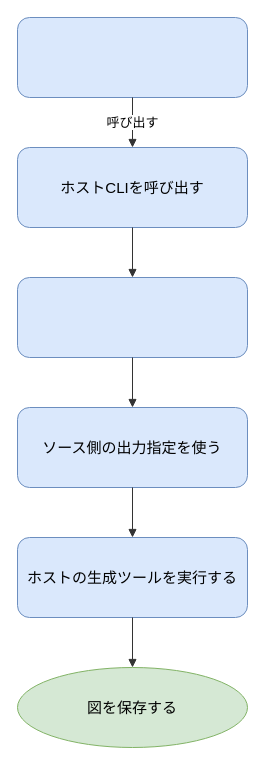
Some shapes in this 265 by 765 pixel diagram are drawn without their labels. Each missing label, with the centre of its shape:
"modeまたは拡張子を判別する" goes at (x=132, y=317).
"図生成タスクを実行する" goes at (x=132, y=57).
